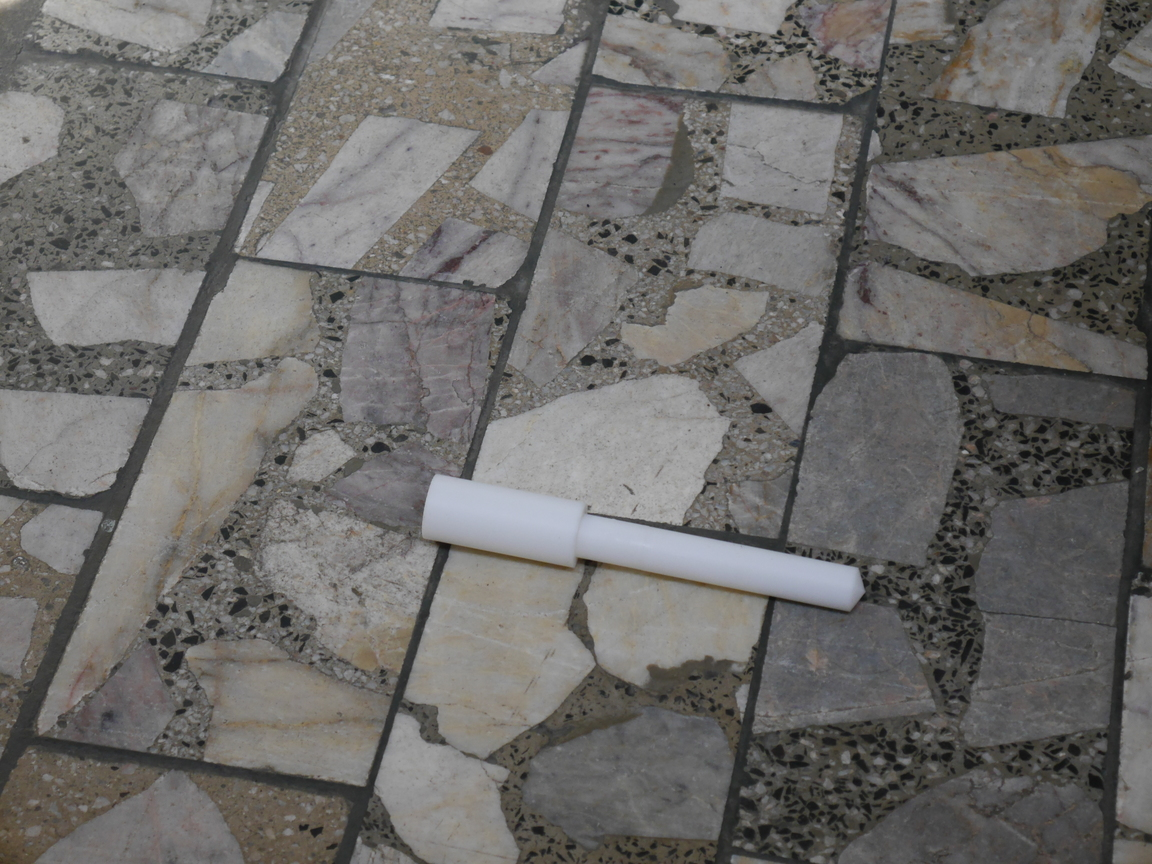cargo_g: (417, 473, 867, 617)
